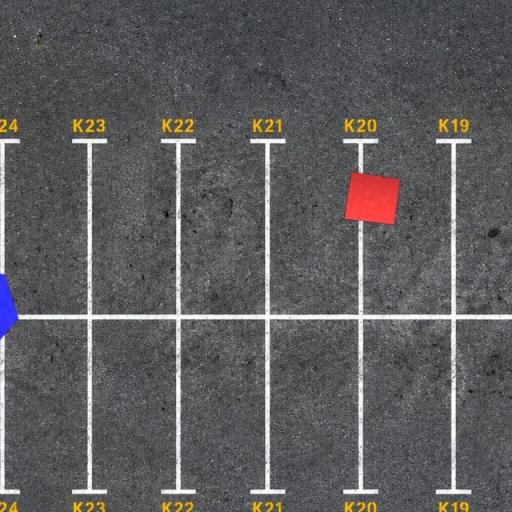RED_SQUARE: (344, 171, 401, 226)
